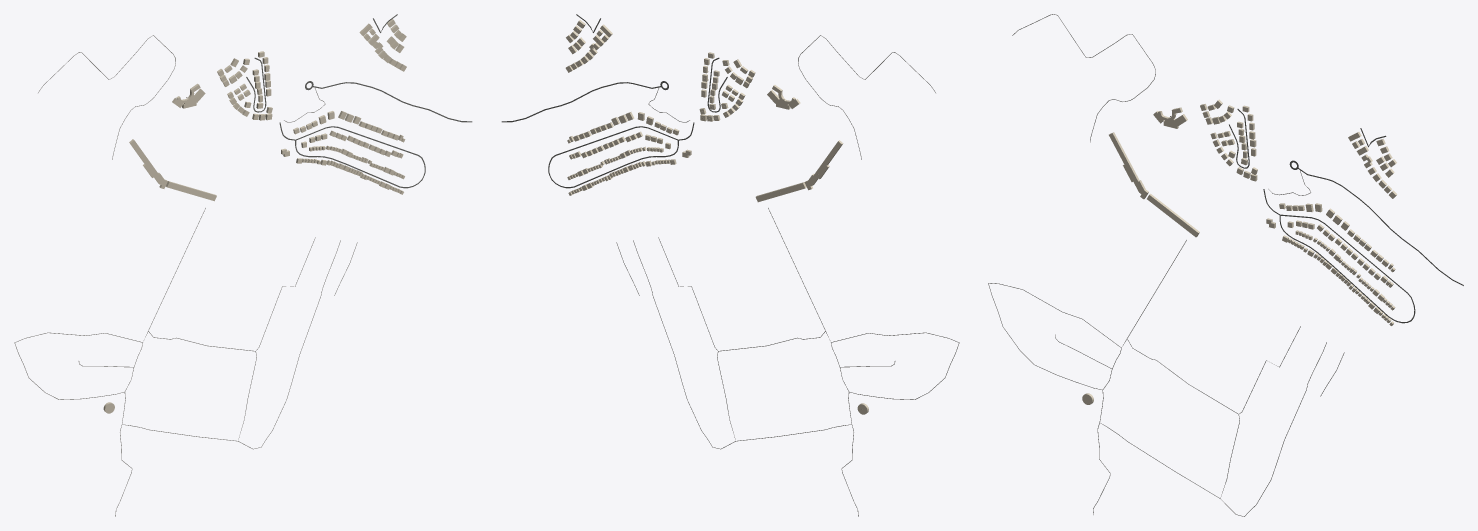
File: historic-palestine-09_33_3513_3279.glb
3 renders of one model, left to right at view 1: azimuth 30°, elevation 25°; view 2: azimuth 150°, elevation 25°; view 3: azimuth 330°, elevation 25°, orthographic. The views are drawn at different scales.
Visible parts, largest first — view 1: no part large enough to name; view 2: no part large enough to name; view 3: Building_.061.
Part boxes in pixels (box(x1,y1,x2,y2)): Building_.061: box(1109, 132, 1148, 199).
Size of the model in its own units: 1358 by 1342 by 8.7.
